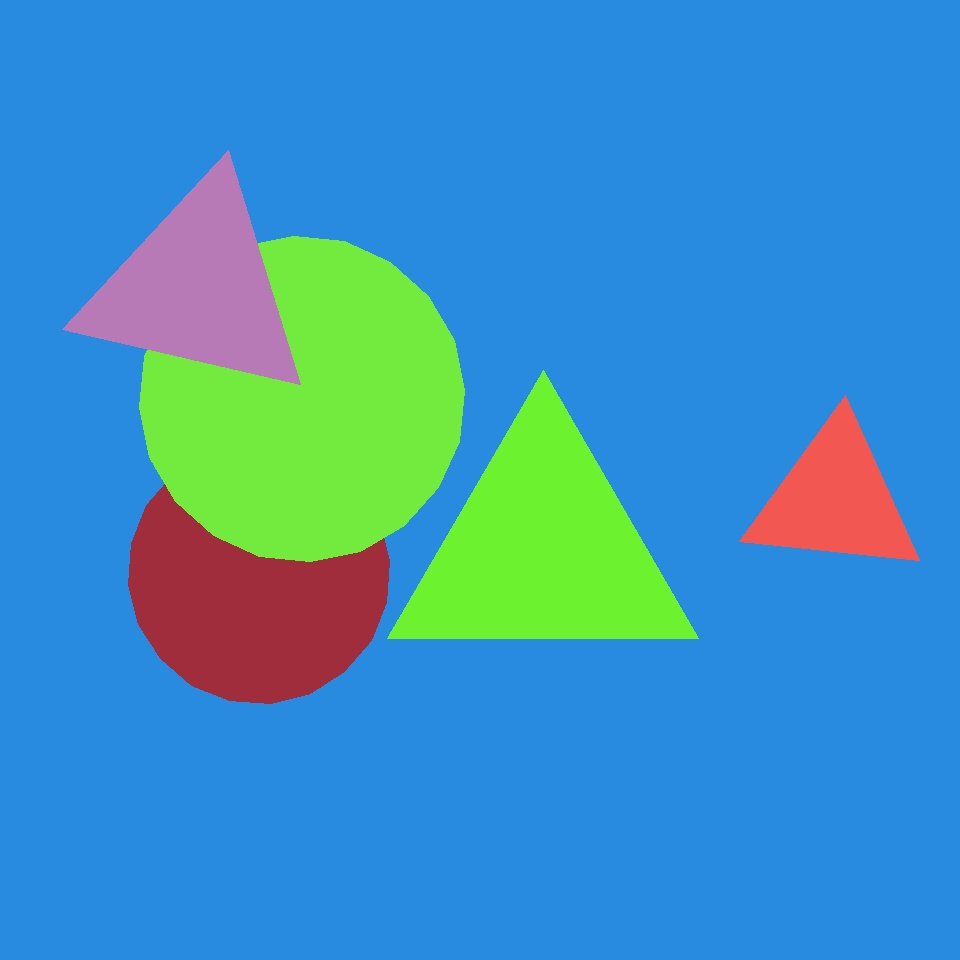circle: (388, 415, 698, 683), (639, 620, 904, 877), (78, 171, 316, 405), (745, 416, 925, 582)
square: (254, 204, 606, 556), (464, 214, 765, 516)
triangle: (139, 236, 464, 562), (128, 443, 390, 704)
